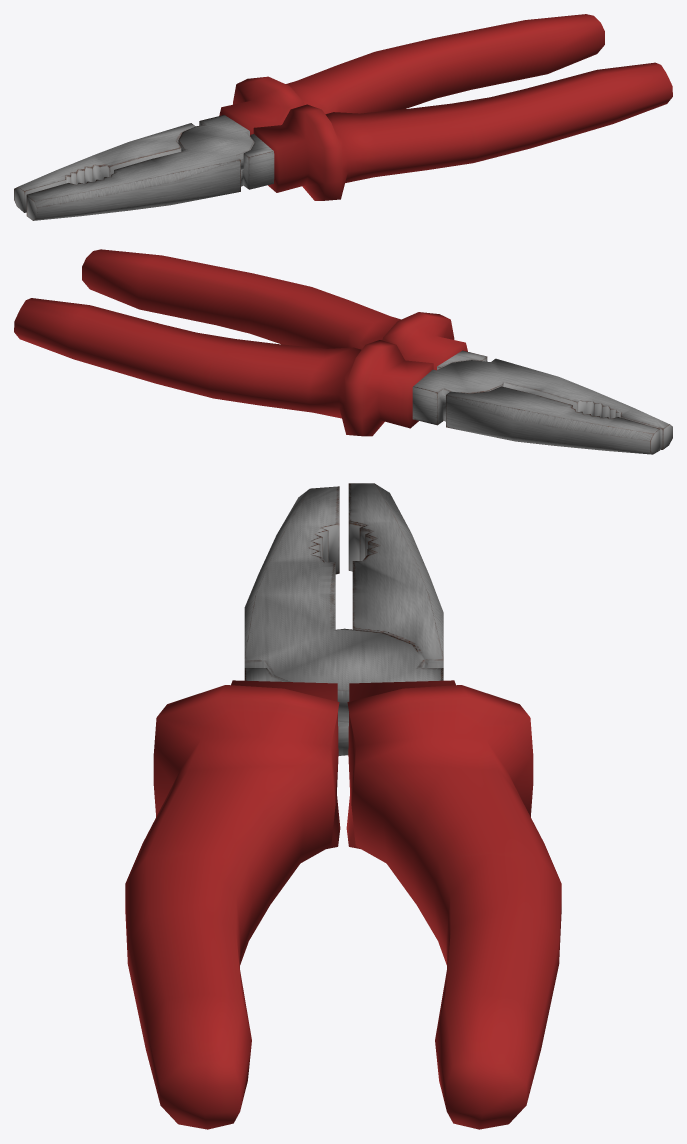
File: pillers.fbx
The picture shows the model from 3 angles, top to bottom: view 1: azimuth 30°, elevation 25°; view 2: azimuth 150°, elevation 25°; view 3: azimuth 270°, elevation 25°; orthographic projection. The views are drawn at different scales.
Visible parts, largest first — view 1: Pliers; view 2: Pliers; view 3: Pliers.
Part boxes in pixels (x1,y1,x2,y2): Pliers: (14,14,672,220); Pliers: (14,249,672,454); Pliers: (125,483,561,1129).
Size of the model in its own units: 283 by 34.39 by 88.08.
